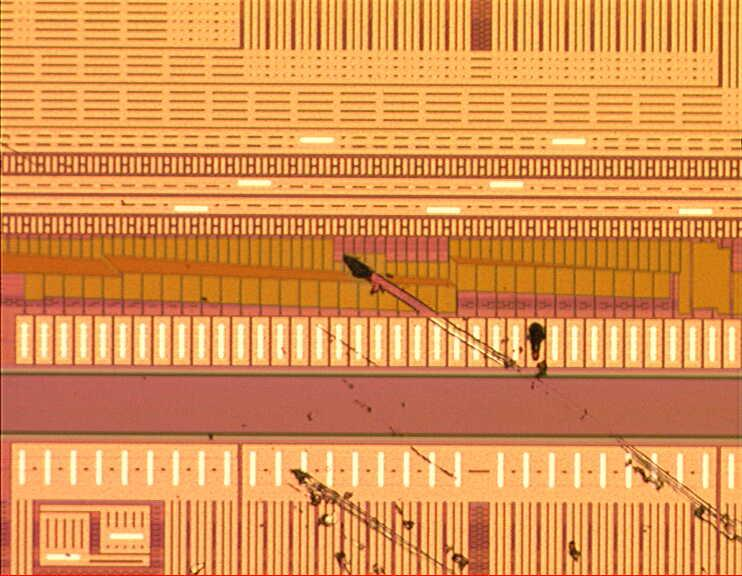SCRATCH: (181, 240, 742, 576)
